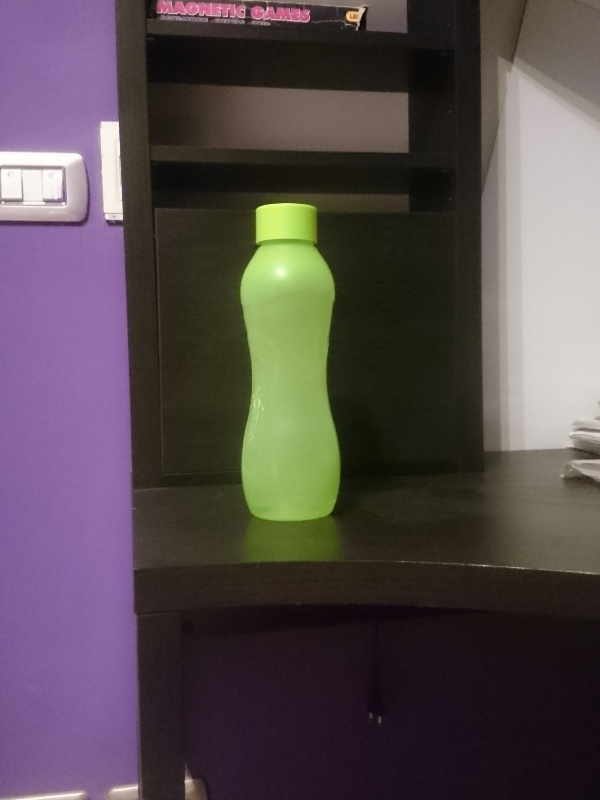my bottle: (236, 203, 340, 523)
